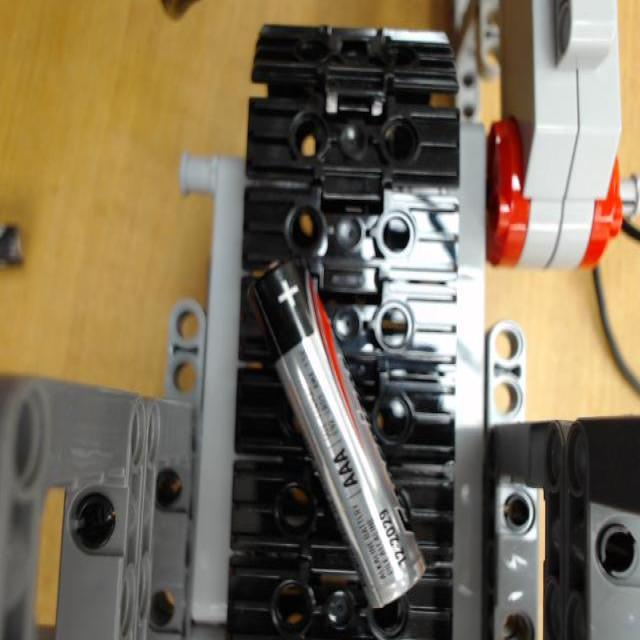AAA: (254, 255, 428, 608)
